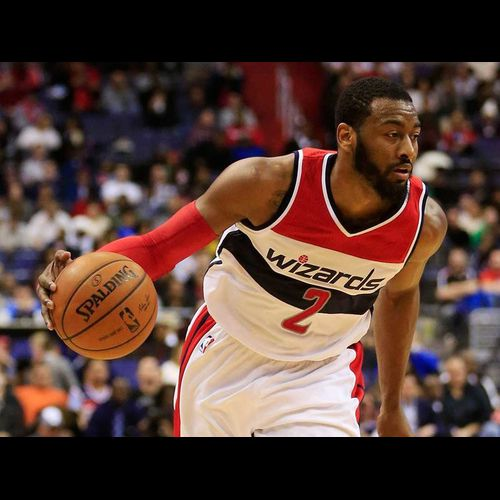ball: (50, 250, 155, 361)
